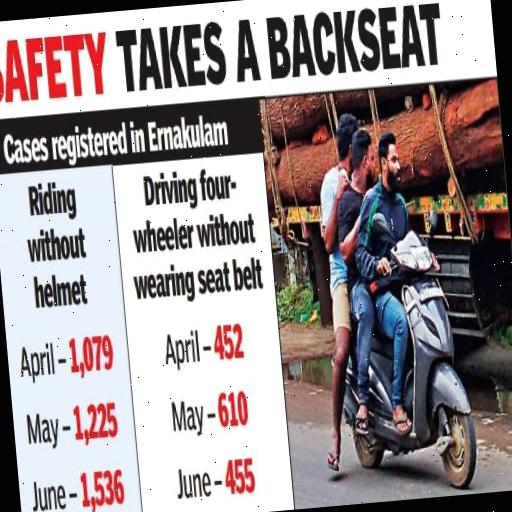no helmet: (363, 110, 474, 486)
